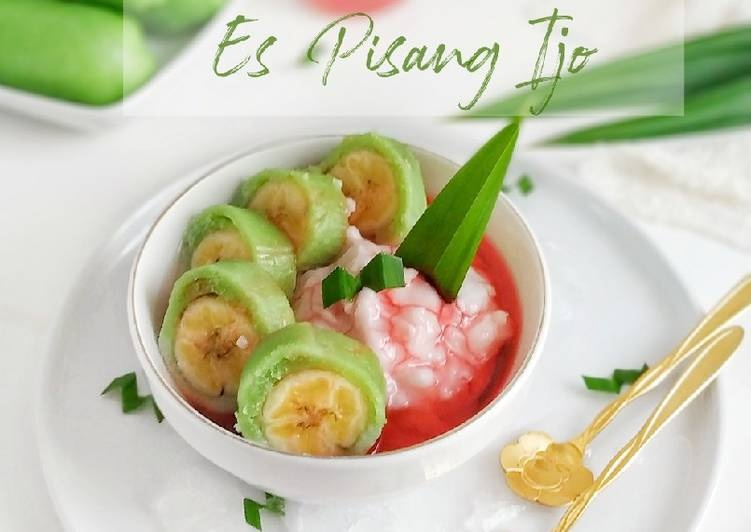pisang_ijo: (236, 321, 388, 465)
